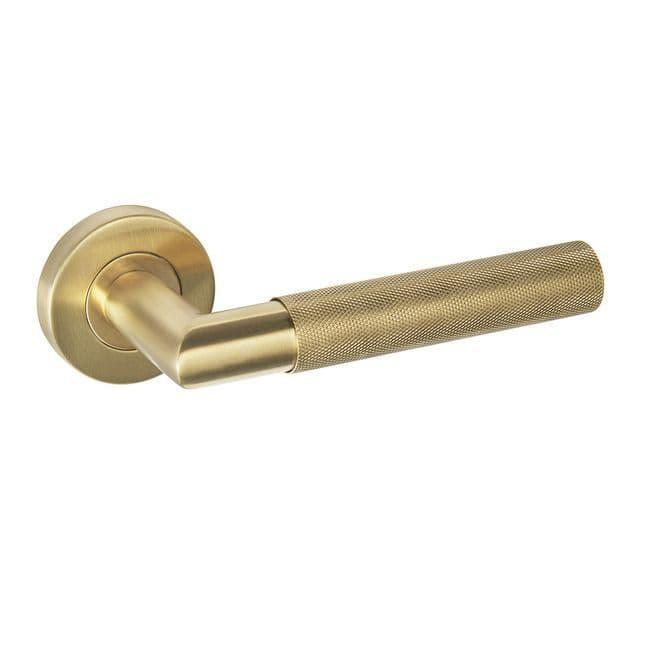doorhandle: (78, 206, 624, 418)
